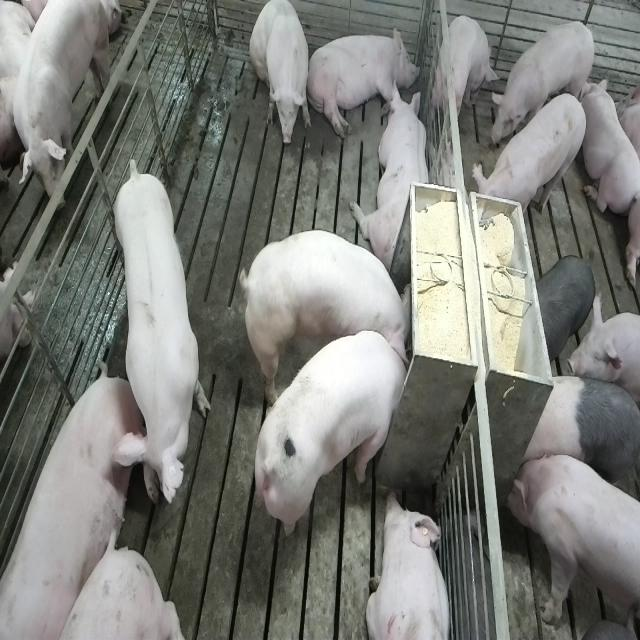Feeding: (258, 328, 417, 539), (244, 226, 420, 366)
Lateral_lying: (306, 22, 419, 140)
Sitting: (250, 0, 311, 148)
Standing: (110, 154, 211, 510), (506, 450, 638, 640), (2, 0, 114, 223), (473, 89, 589, 229), (516, 374, 638, 500), (488, 19, 598, 150), (436, 13, 499, 131), (534, 255, 596, 363)
Sternal_lying: (353, 81, 432, 273), (366, 491, 454, 640), (580, 73, 637, 216)
